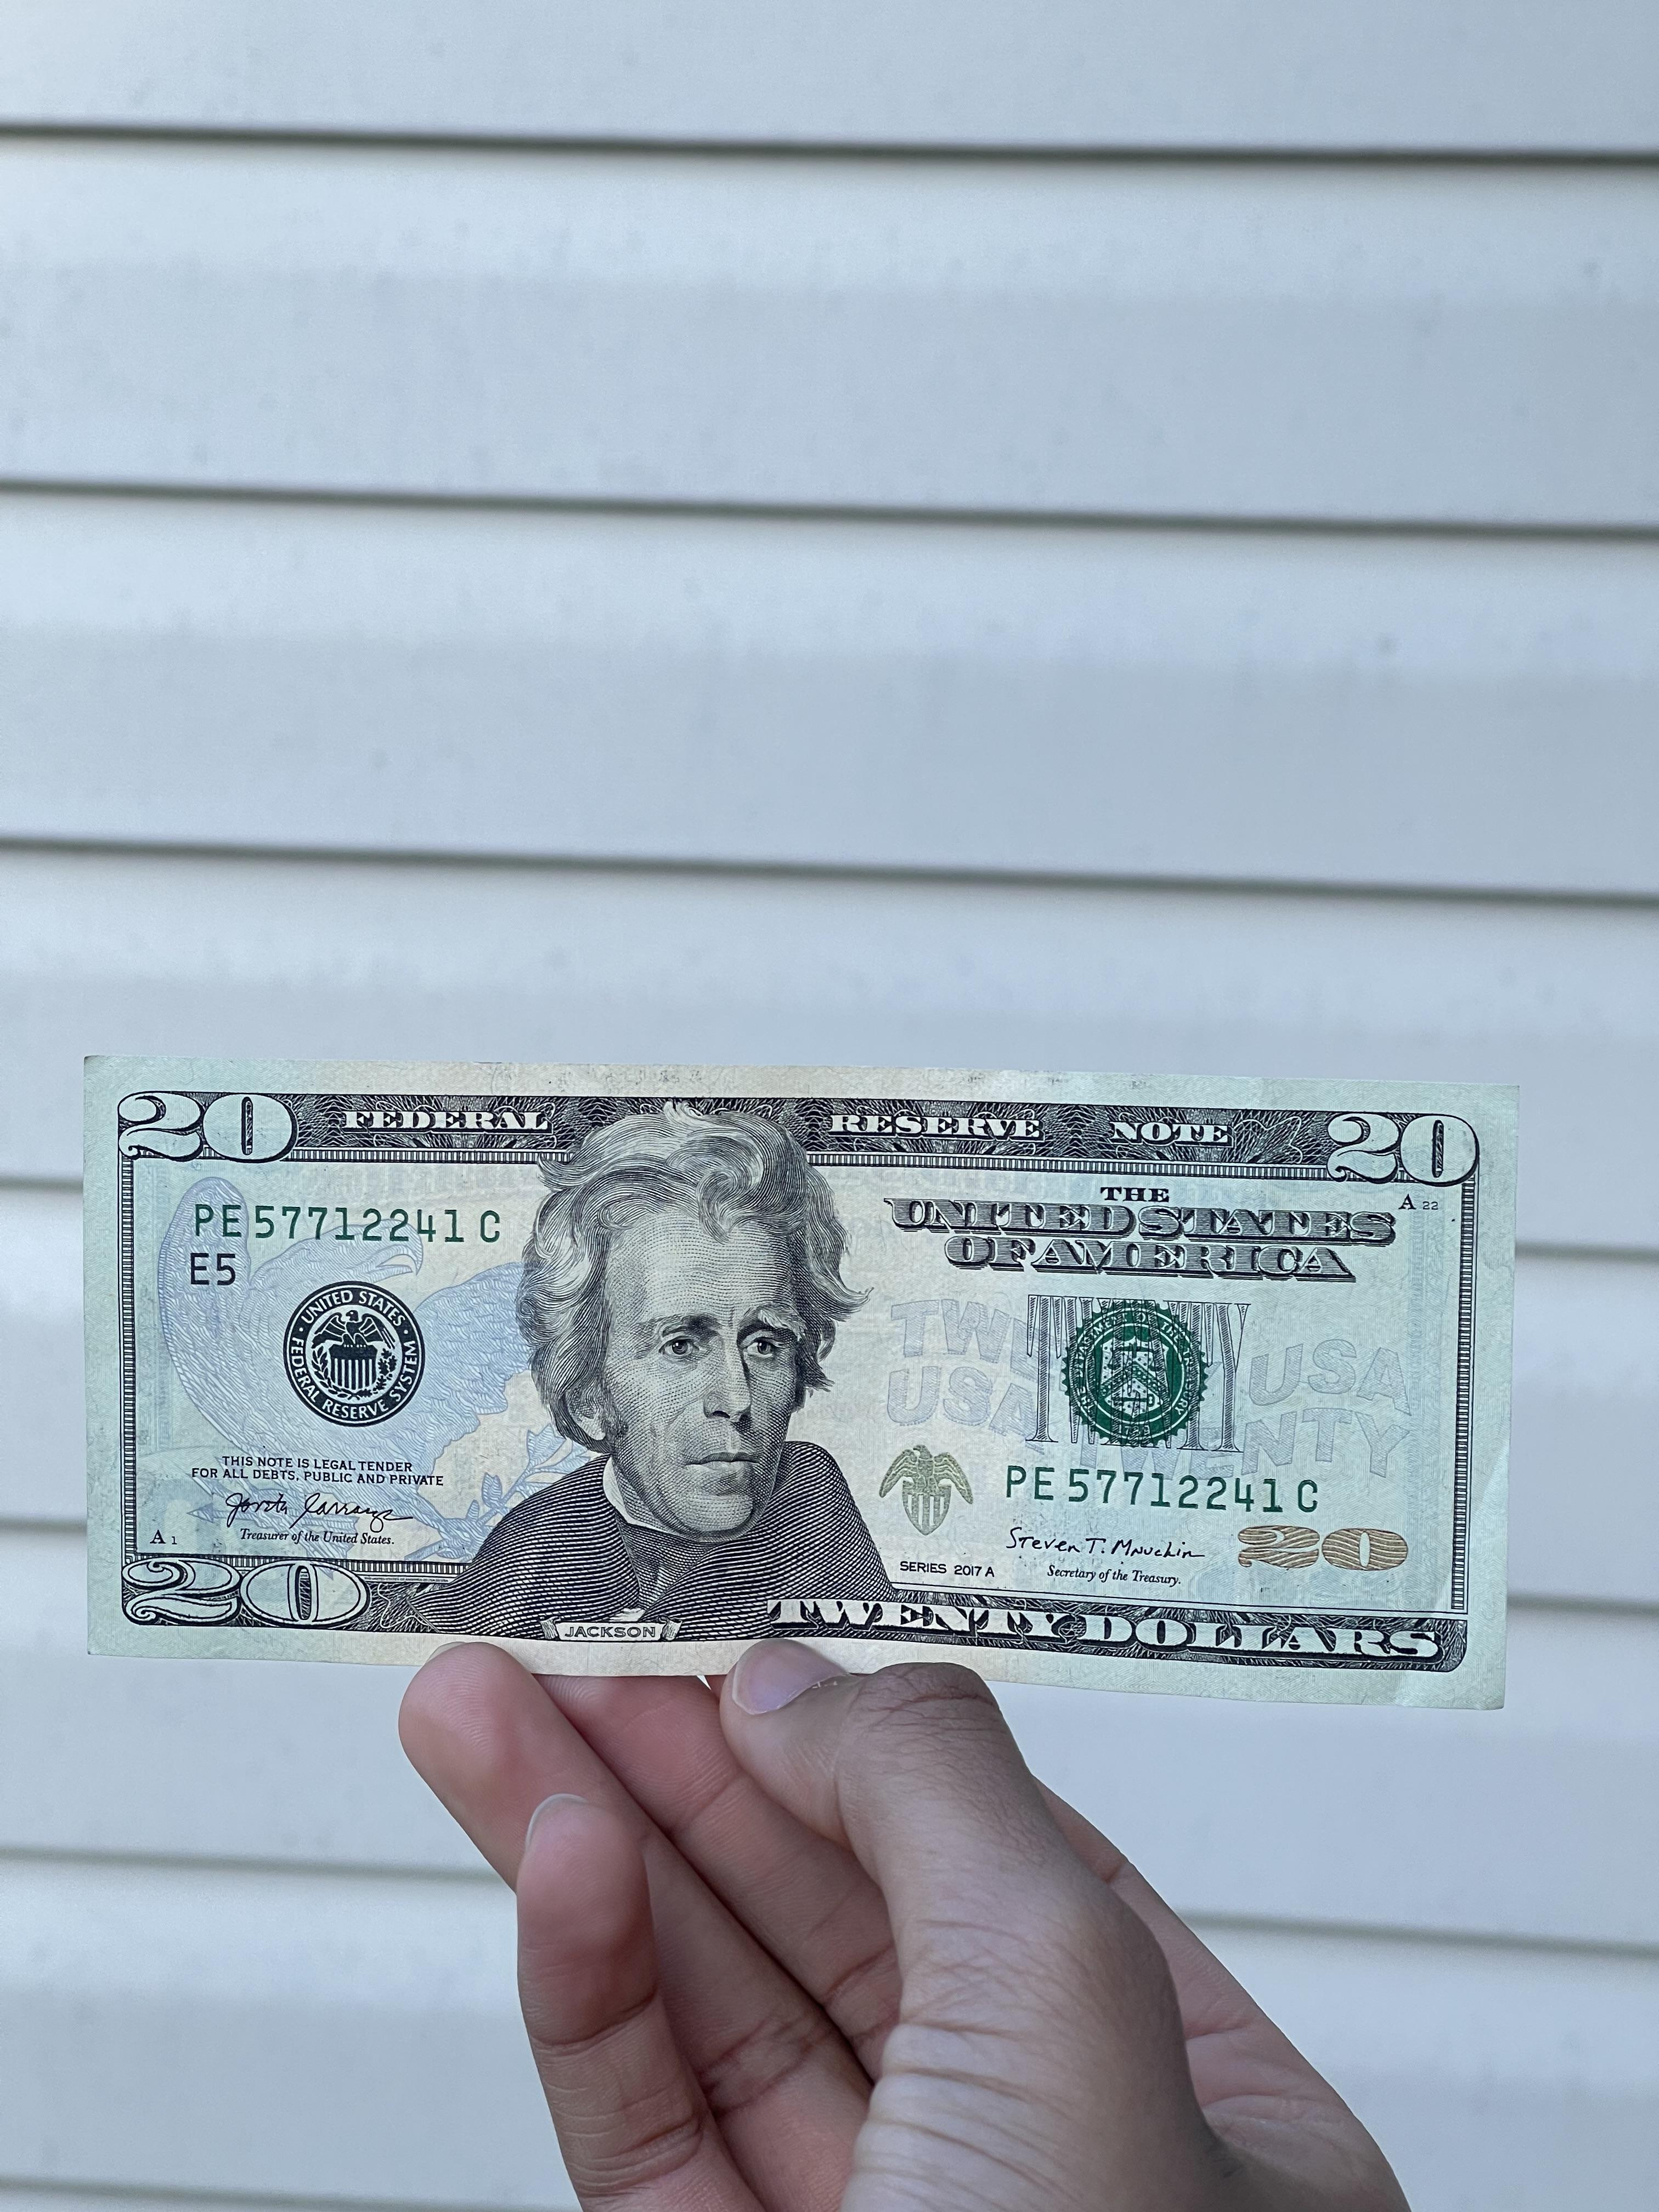TwentyBill: (77, 1049, 1523, 1719)
